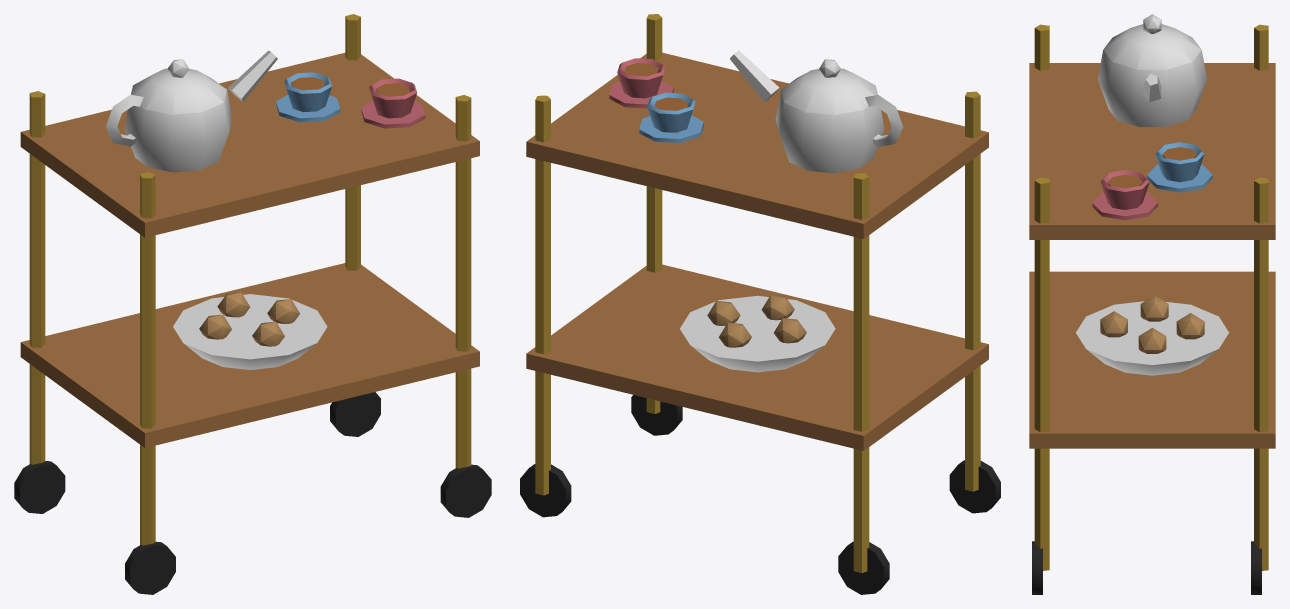
The model's file is tea_trolley.glb.
The picture shows the model from 3 angles, left to right: view 1: azimuth 30°, elevation 25°; view 2: azimuth 150°, elevation 25°; view 3: azimuth 270°, elevation 25°; orthographic projection.
Parts seen in each view (by area): view 1: furniture-tea_trolley; view 2: furniture-tea_trolley; view 3: furniture-tea_trolley.
Boxes of the visible parts, x1,y1,x2,y2 form: furniture-tea_trolley: [14, 14, 491, 594]; furniture-tea_trolley: [520, 14, 1000, 594]; furniture-tea_trolley: [1029, 14, 1275, 594].
Bounding box in the file's own units: 0.7551 × 0.937 × 0.45.
